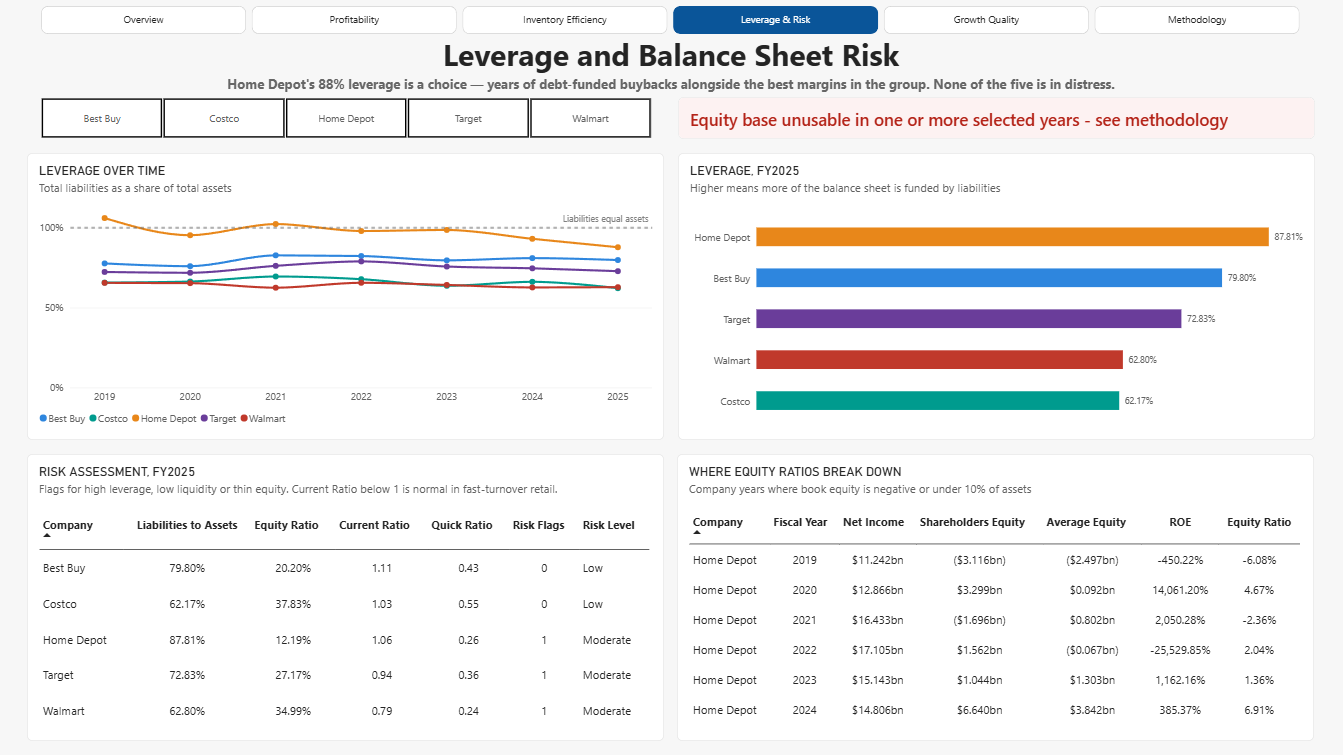

The dashboard page shown, as its layout file describes it:
{"tool":"powerbi","page":{"name":"Leverage & Risk","canvas":[1920,1080],"ordinal":3},"visuals":[{"type":"textbox","title":"Leverage and Balance Sheet Risk","box":[40,50,1840,60],"z":0},{"type":"textbox","title":"Home Depot''s 88% leverage is a choice — years of debt-funded buybacks alongside the best margins in the group. None of the five is in distress.","box":[40,108,1840,26],"z":1000},{"type":"slicer","fields":{"Values":["Company.Company"]},"box":[40,140,910,60],"z":2000},{"type":"cardVisual","fields":{"Data":["_Measures.Equity Warning"]},"box":[970,140,910,60],"z":3000},{"type":"lineChart","title":"LEVERAGE OVER TIME","fields":{"Category":["Fiscal Year.Fiscal Year"],"Series":["Company.Company"],"Y":["_Measures.Liabilities to Assets %"]},"box":[40,220,910,410],"z":4000},{"type":"clusteredBarChart","title":"LEVERAGE, FY2025","fields":{"Category":["Company.Company"],"Y":["_Measures.Liabilities to Assets %"]},"box":[970,220,910,410],"z":5000},{"type":"tableEx","title":"RISK ASSESSMENT, FY2025","fields":{"Values":["Company.Company","_Measures.Liabilities to Assets %","_Measures.Equity Ratio %","Risk Assessment.Current Ratio","Risk Assessment.Quick Ratio","Sum(Risk Assessment.Risk Flags)","Risk Assessment.Risk Level"]},"box":[40,650,910,410],"z":6000},{"type":"tableEx","title":"WHERE EQUITY RATIOS BREAK DOWN","fields":{"Values":["Company.Company","Fiscal Year.Fiscal Year","Financials.Net Income","Financials.Shareholders Equity","Financials.Average Equity","Financials.ROE % (Average Equity)","_Measures.Equity Ratio %"]},"box":[968.8,650,910,410],"z":7000},{"type":"pageNavigator","box":[60,10,1800,40],"z":8000}]}

Visuals, with their boxes in screenshot pixels (x1, y1, x2, y2), scaled from the page's 1920x1080 canvas onto the 1343x755 screenshot:
"Leverage and Balance Sheet Risk" textbox: (28, 35, 1315, 77)
"Home Depot''s 88% leverage is a choice — years of debt-funded buybacks alongside the best margins in the group. None of the five is in distress." textbox: (28, 76, 1315, 94)
slicer - Company.Company: (28, 98, 665, 140)
cardVisual - _Measures.Equity Warning: (678, 98, 1315, 140)
"LEVERAGE OVER TIME" lineChart: (28, 154, 665, 440)
"LEVERAGE, FY2025" clusteredBarChart: (678, 154, 1315, 440)
"RISK ASSESSMENT, FY2025" tableEx: (28, 454, 665, 741)
"WHERE EQUITY RATIOS BREAK DOWN" tableEx: (678, 454, 1314, 741)
pageNavigator: (42, 7, 1301, 35)
